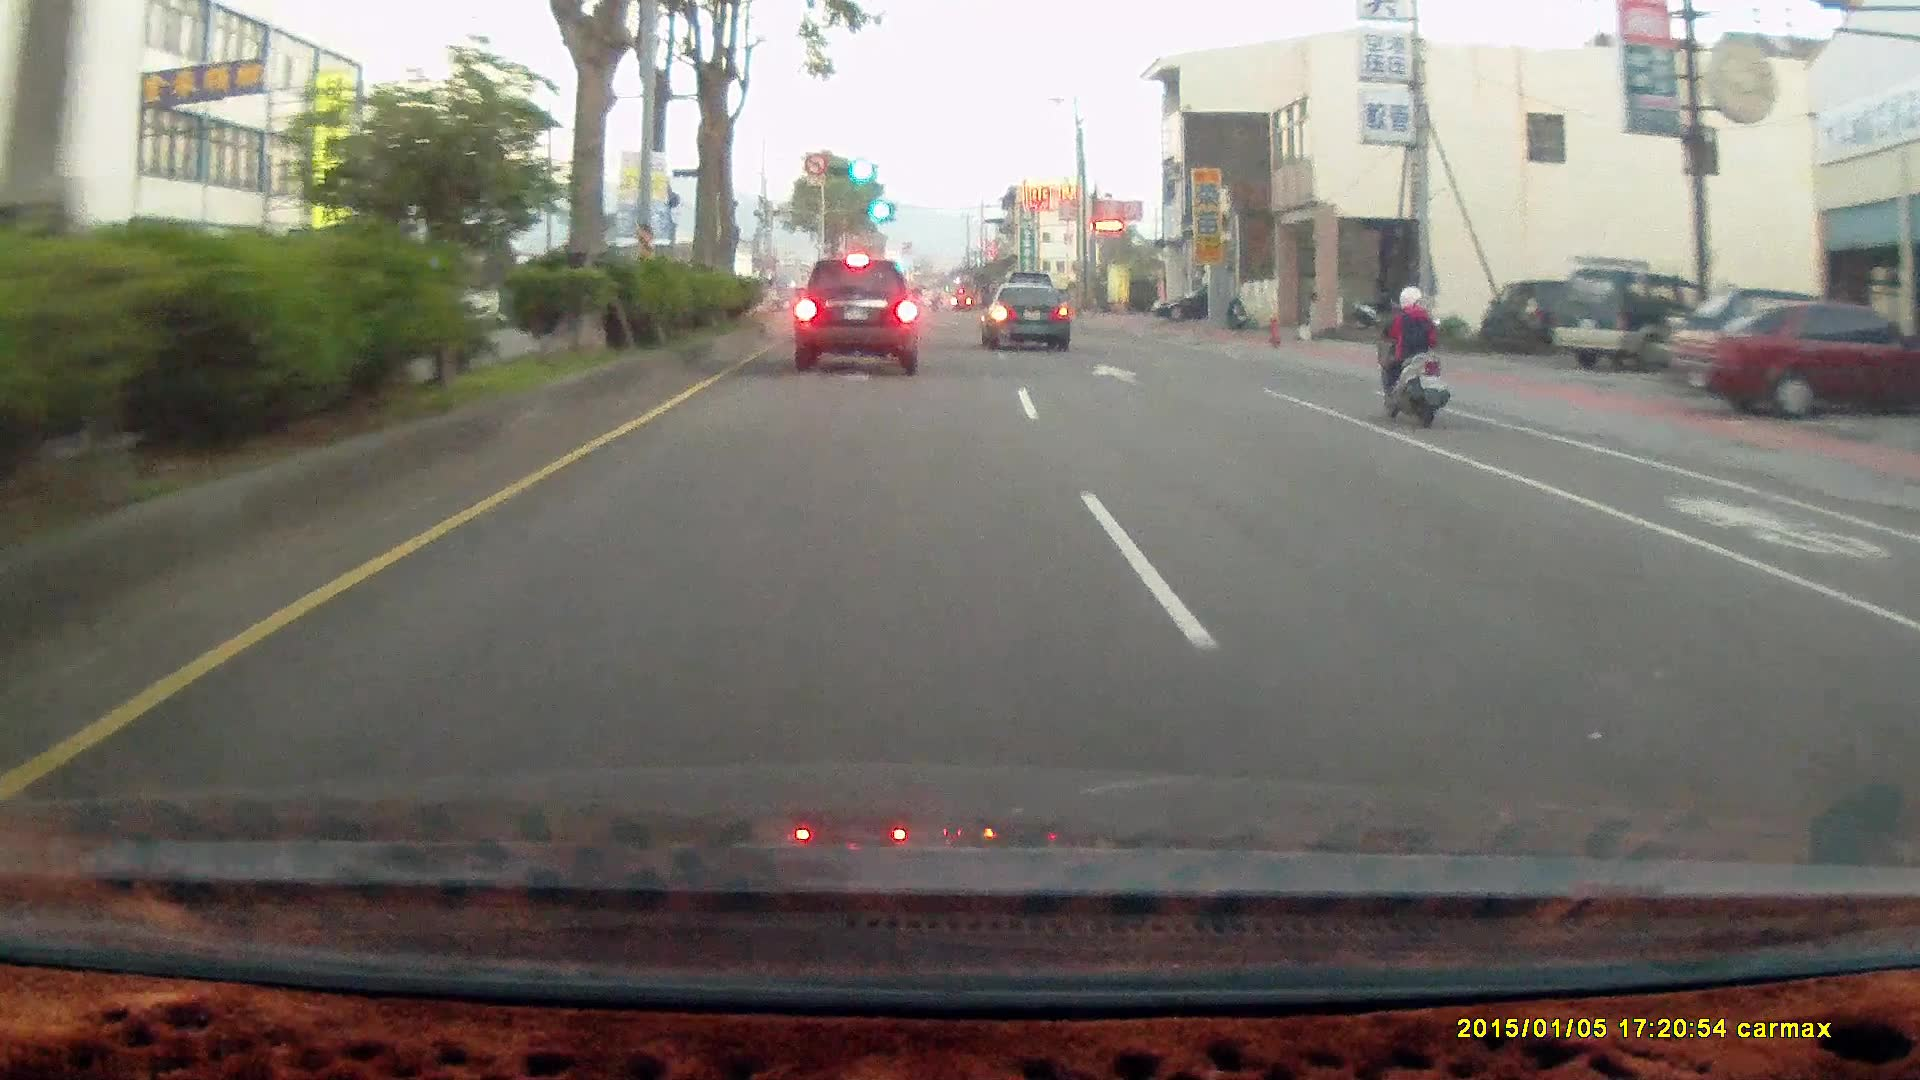rider: (1360, 272, 1464, 439), (1372, 281, 1449, 424)
vehicle: (1668, 297, 1919, 419), (1669, 297, 1920, 420), (1549, 266, 1712, 375), (1548, 266, 1713, 372), (798, 253, 923, 372), (792, 256, 921, 372), (1480, 280, 1582, 352), (981, 284, 1075, 350), (981, 280, 1069, 347), (1150, 286, 1243, 320), (1150, 288, 1210, 325)
